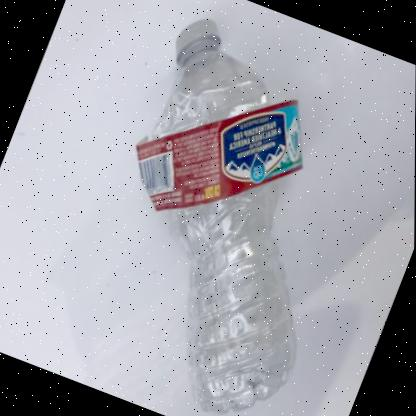Plastic: (136, 20, 303, 415)
